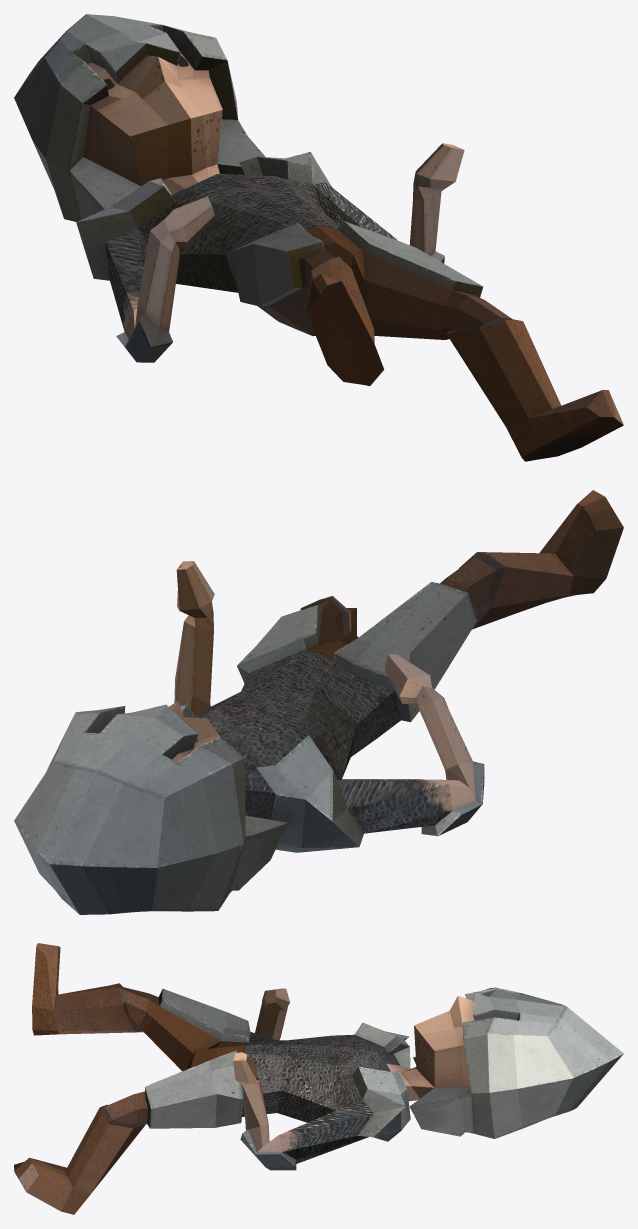
The model's file is Walk_Soldier_6.obj.
3 renders of one model, top to bottom at view 1: azimuth 30°, elevation 25°; view 2: azimuth 150°, elevation 25°; view 3: azimuth 270°, elevation 25°, orthographic. The views are drawn at different scales.
Parts seen in each view (by area): view 1: Soldado_LowPolySTD; view 2: Soldado_LowPolySTD; view 3: Soldado_LowPolySTD.
Boxes of the visible parts, left/top/right/bottom form: Soldado_LowPolySTD: left=14, top=14, right=623, bottom=461; Soldado_LowPolySTD: left=14, top=490, right=623, bottom=914; Soldado_LowPolySTD: left=14, top=943, right=623, bottom=1214.
Size of the model in its own units: 0.7335 by 0.5426 by 1.62.
